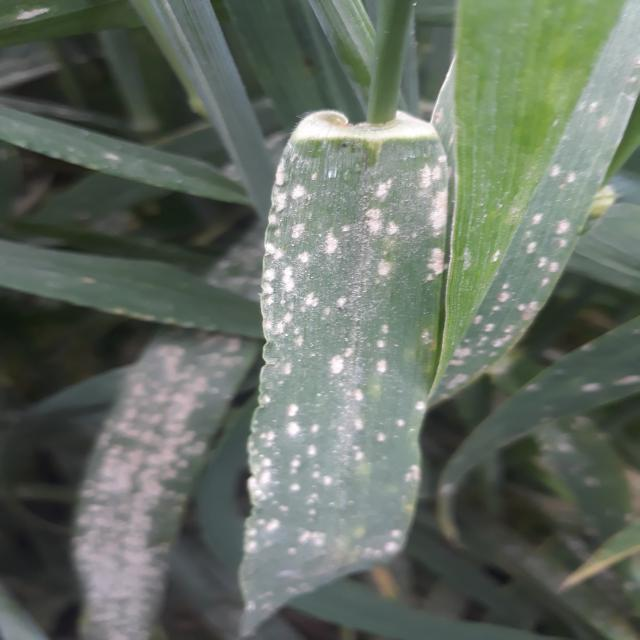powder_mildew: (222, 115, 443, 640), (447, 68, 640, 640), (45, 233, 246, 640), (2, 105, 225, 210), (0, 0, 138, 30)
